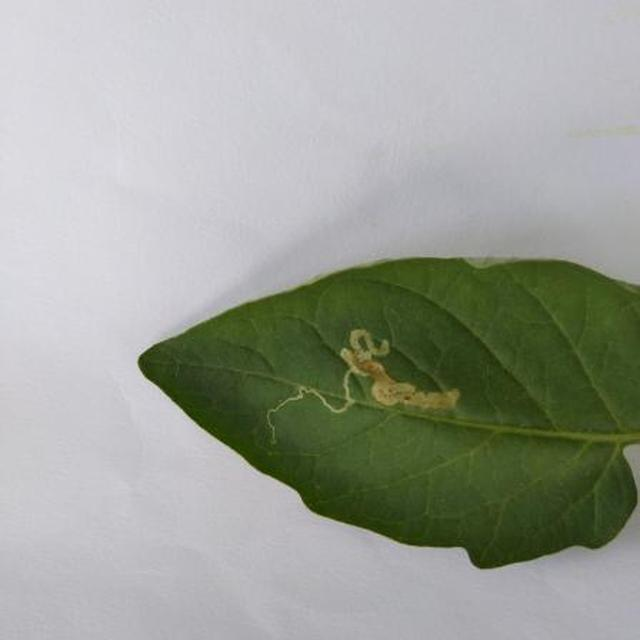Leaf Miner: (235, 363, 640, 640)
